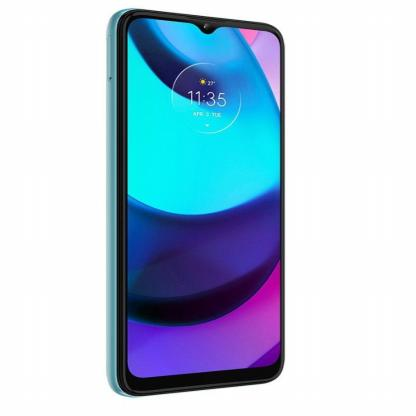SMARTPHONE: (102, 8, 309, 388)
